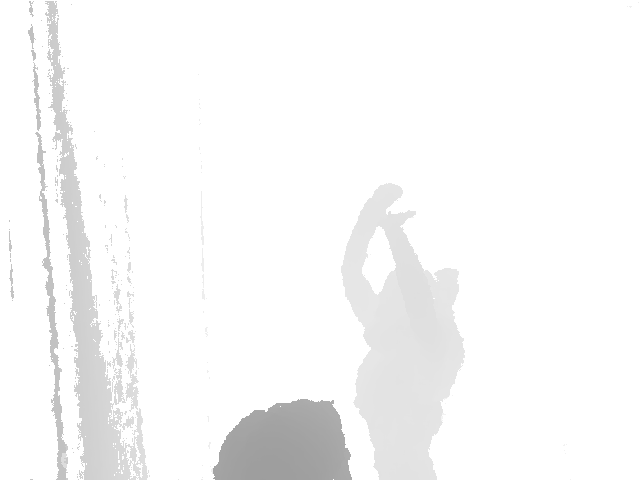hand: (362, 183, 403, 218), (380, 209, 416, 230)
head: (214, 400, 353, 480), (381, 266, 460, 307)
person: (342, 183, 465, 480)
